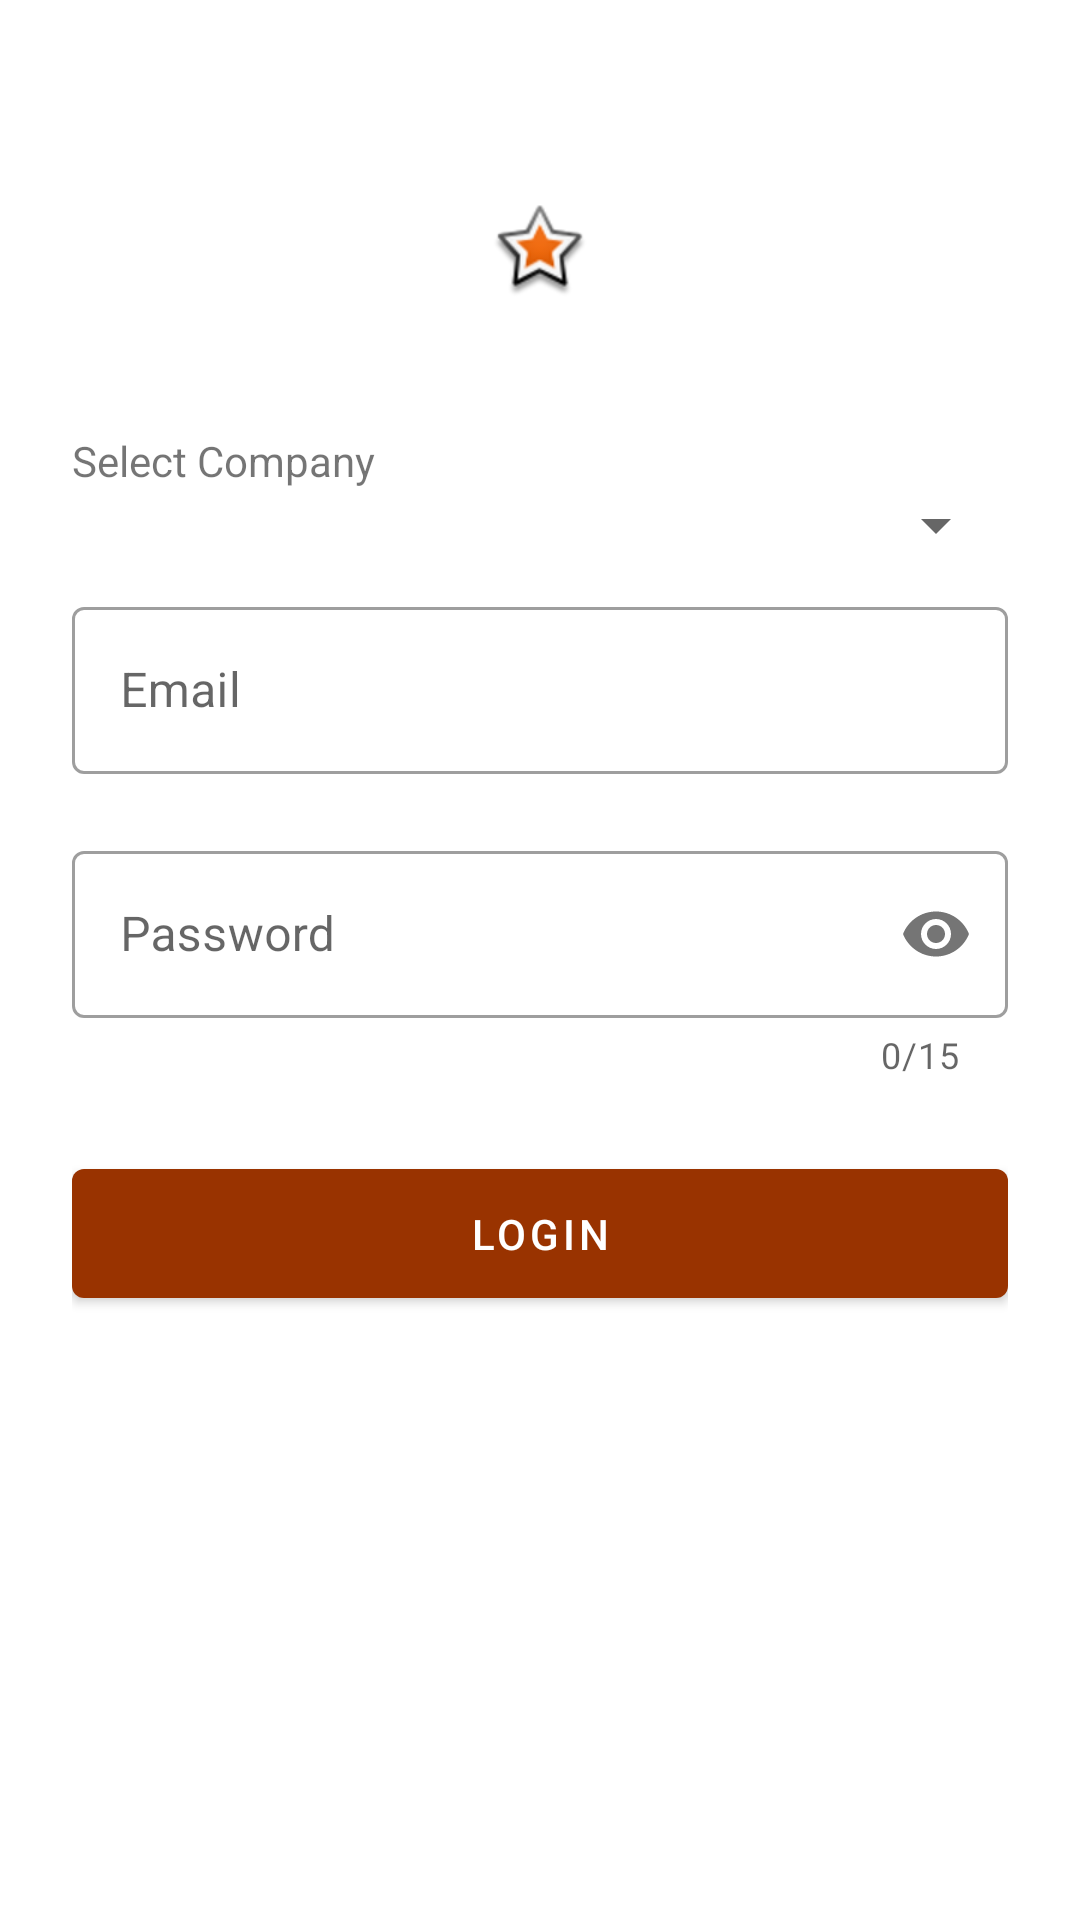

Named icons in this screenshot (1080x1920) and their bounding boxes, (x1, y1, x2, y2):
star on: (497, 205, 583, 292)
